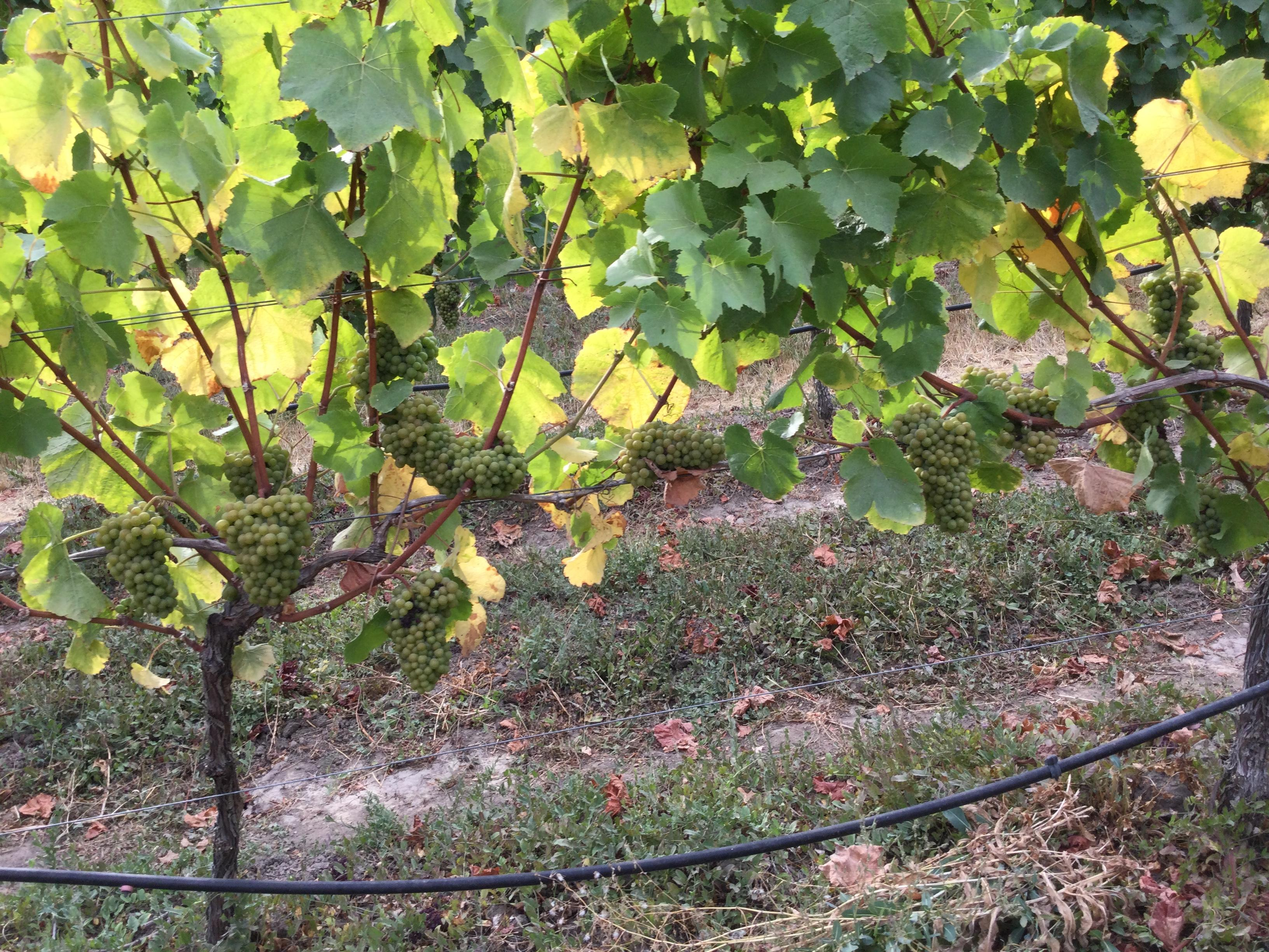leaf: (280, 7, 431, 150), (221, 179, 362, 306), (356, 130, 457, 286), (205, 4, 306, 127), (1131, 98, 1248, 201), (895, 158, 1005, 258), (19, 503, 108, 623), (571, 327, 673, 430), (44, 170, 141, 278), (0, 59, 77, 192), (809, 135, 912, 232), (785, 0, 907, 80), (578, 99, 691, 182), (744, 188, 836, 286), (1182, 58, 1268, 161), (145, 102, 233, 195), (676, 229, 764, 321), (839, 437, 925, 531), (874, 275, 947, 384), (702, 114, 802, 193), (439, 330, 519, 428), (466, 25, 543, 122), (813, 54, 902, 135), (1067, 125, 1143, 219), (500, 350, 566, 450), (902, 91, 984, 169), (299, 407, 384, 480), (724, 424, 804, 499), (58, 312, 121, 397), (1066, 24, 1112, 133), (638, 285, 704, 359), (643, 181, 710, 250), (997, 144, 1064, 208), (472, 0, 569, 43), (0, 391, 61, 457), (982, 79, 1037, 149), (236, 122, 297, 182), (1210, 493, 1268, 555), (1146, 462, 1199, 527), (373, 288, 432, 346), (107, 371, 166, 427), (957, 30, 1010, 83), (958, 387, 1008, 443), (343, 607, 390, 663), (63, 632, 108, 676), (231, 643, 275, 681), (969, 462, 1023, 492), (315, 143, 348, 192), (367, 378, 412, 413), (831, 409, 865, 443), (659, 386, 689, 421), (70, 60, 83, 76), (87, 625, 99, 631), (283, 166, 288, 173), (640, 86, 649, 88), (617, 330, 622, 333), (224, 143, 227, 145), (15, 163, 16, 164), (432, 107, 433, 108), (689, 355, 689, 355), (640, 8, 642, 8)
